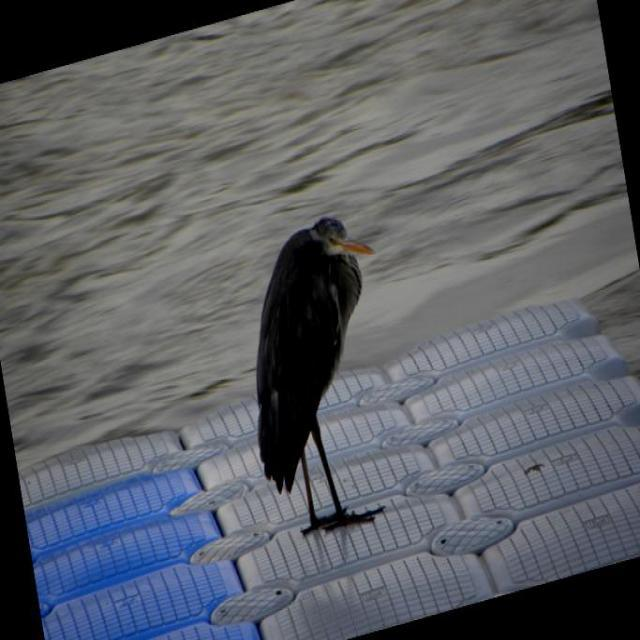flood: (0, 0, 639, 466)
